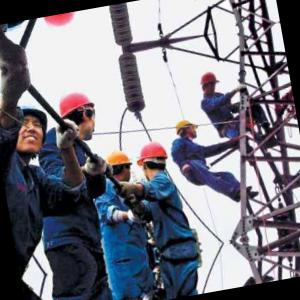helmet: (1, 96, 55, 159), (56, 83, 105, 139), (135, 137, 173, 181), (102, 143, 138, 184), (43, 11, 87, 36), (1, 20, 35, 42), (198, 69, 223, 97), (172, 115, 199, 140), (183, 1, 207, 4)
